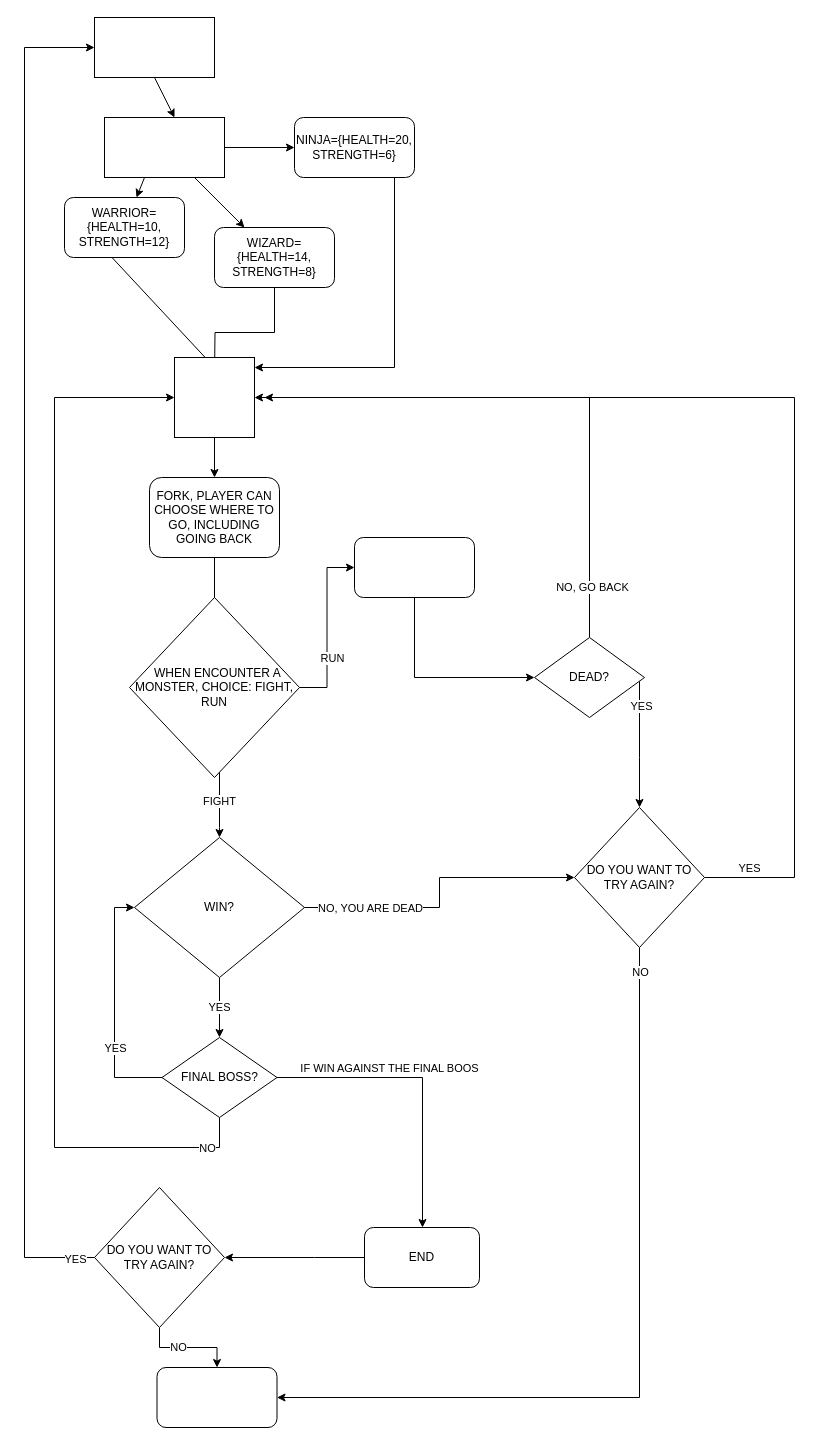
Image size: 820x1445. Some labels were removed from this diagram. The shapes that lost their labels are listed below. From the top down, each one's centre as x and y in pixels, then its label:
At (154,47): "ASK FOR CHARACTER NAME".
At (164,147): "ASK FOR CLASS".
At (214,397): "STORY".
At (414,567): "PENALTY OF 5 TO BE CAUGHT BY THE MONSTER".
At (216,1397): "EXIT THE PROGRAM".
